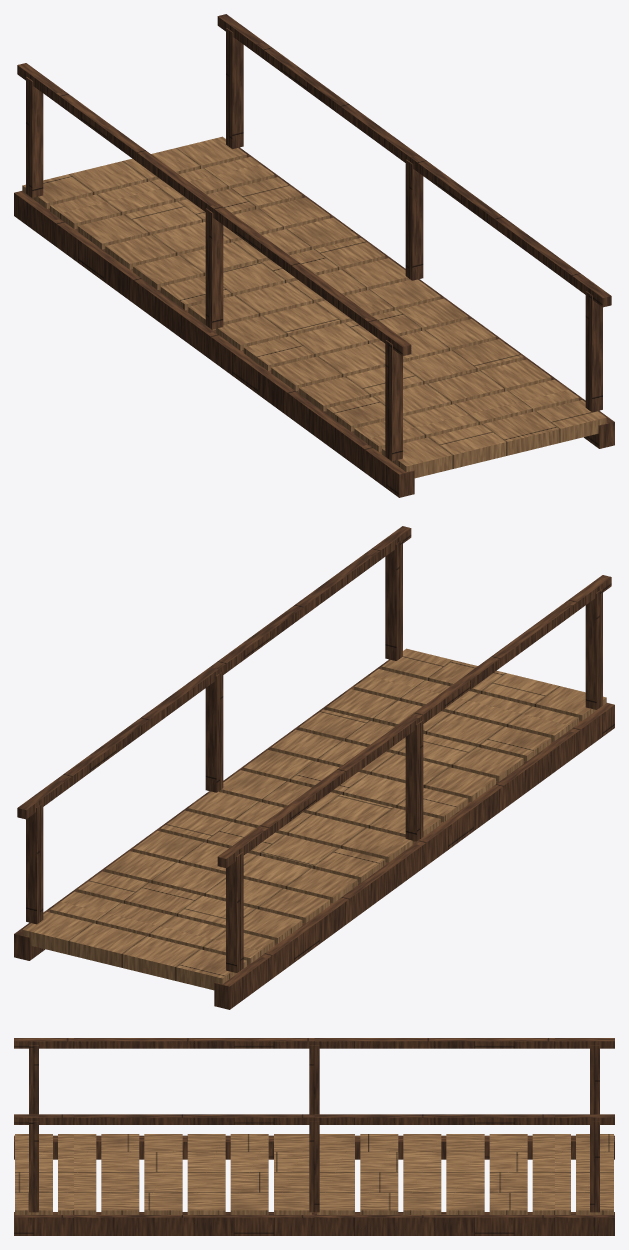
Rendered from walkway.gltf.
3 renders of one model, top to bottom at view 1: azimuth 30°, elevation 25°; view 2: azimuth 150°, elevation 25°; view 3: azimuth 270°, elevation 25°, orthographic. The views are drawn at different scales.
Visible parts, largest first — view 1: Bridge; view 2: Bridge; view 3: Bridge.
Boxes of the visible parts, bbox=[...] form: Bridge: bbox=[14, 14, 614, 497]; Bridge: bbox=[14, 526, 614, 1009]; Bridge: bbox=[14, 1038, 614, 1235].
Bounding box in the file's own units: 1.94 × 1.29 × 6.
Materials: 2 (2 with a texture image).
